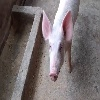heo: (40, 7, 77, 84)
